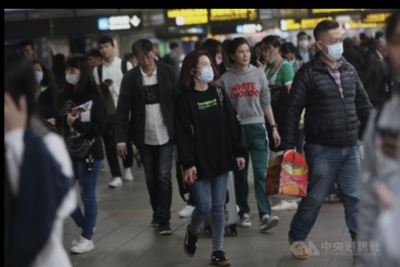mask_weared_incorrect: (259, 44, 277, 62), (214, 49, 223, 64)
with_mask: (322, 34, 345, 61), (195, 59, 216, 84), (65, 66, 81, 85), (30, 66, 44, 82), (299, 36, 310, 48), (287, 55, 297, 66)
without_mask: (137, 52, 155, 69), (235, 47, 252, 65), (98, 43, 114, 58), (22, 46, 34, 60), (88, 56, 99, 67)
